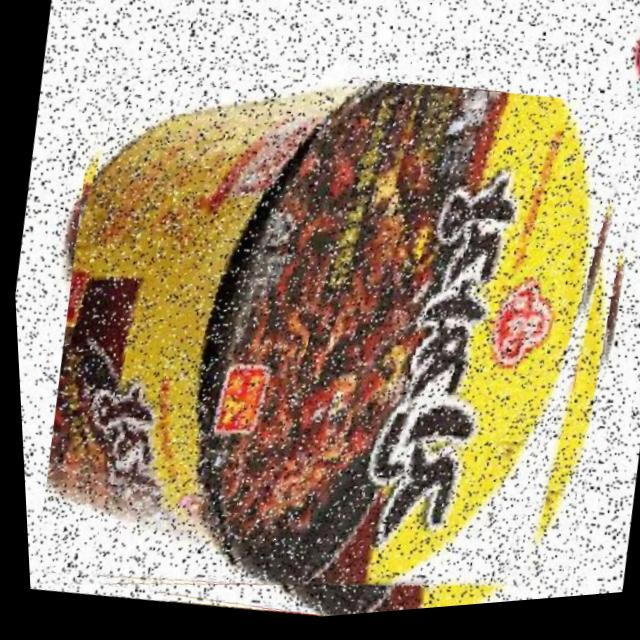Miscellaneous: (5, 21, 640, 640)
